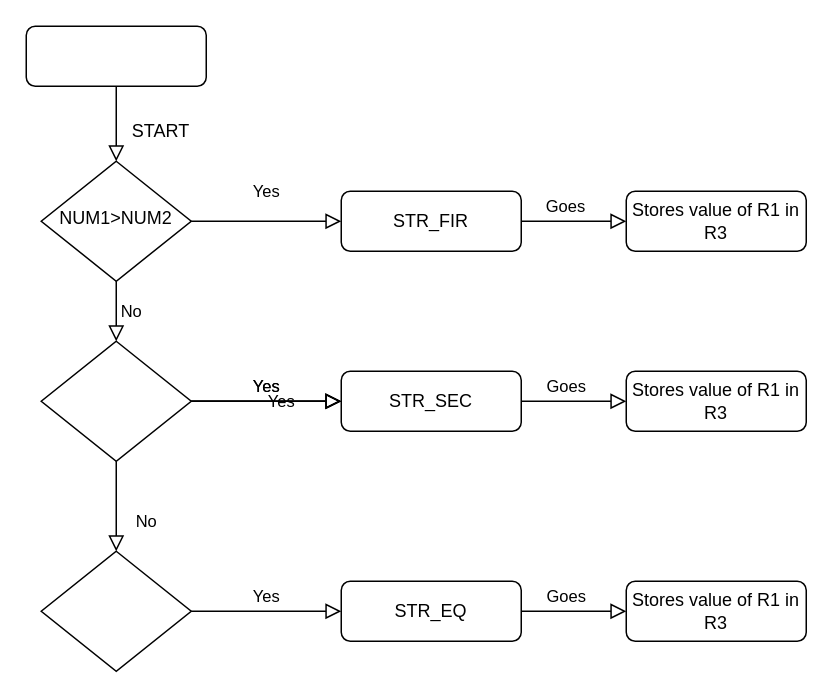
The diagram is 833 pixels wide and 698 high, and some of its shapes have lost their labels. The shapes that lost their labels are listed below. From the top down, each one's centre as x and y in pixels, then its label:
At point 115,55: "GET_LARGER".
At point 115,400: "NUM1<NUM2".
At point 115,610: "NUM1=NUM2".
